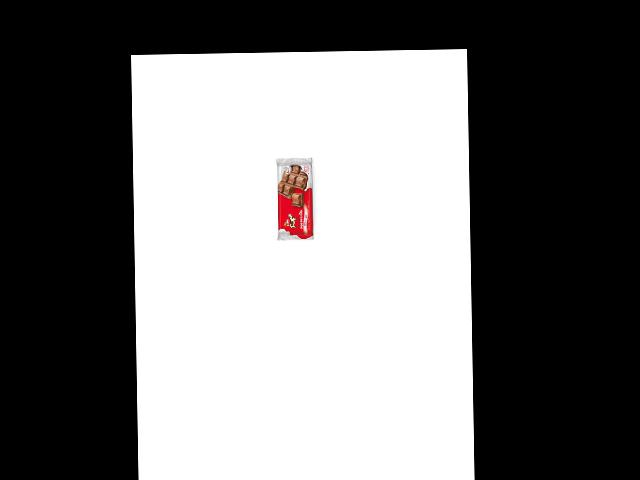chocolate: (275, 155, 314, 241)
